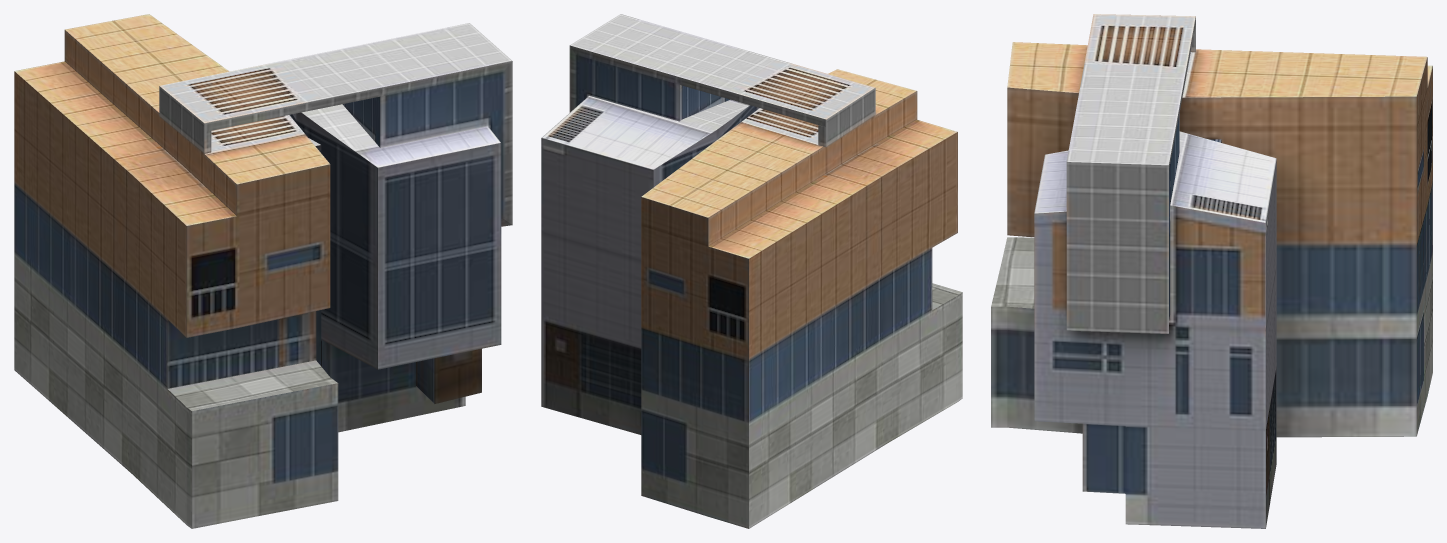
3 renders of one model, left to right at view 1: azimuth 30°, elevation 25°; view 2: azimuth 150°, elevation 25°; view 3: azimuth 270°, elevation 25°, orthographic. The views are drawn at different scales.
Parts seen in each view (by area): view 1: MainBuilding; view 2: MainBuilding; view 3: MainBuilding.
Part boxes in pixels (x1,y1,x2,y2): MainBuilding: [14, 14, 512, 528]; MainBuilding: [541, 14, 962, 528]; MainBuilding: [991, 14, 1432, 528].
Bounding box in the file's own units: 1.23 × 1.19 × 1.28.
1 material, 1 textured.
